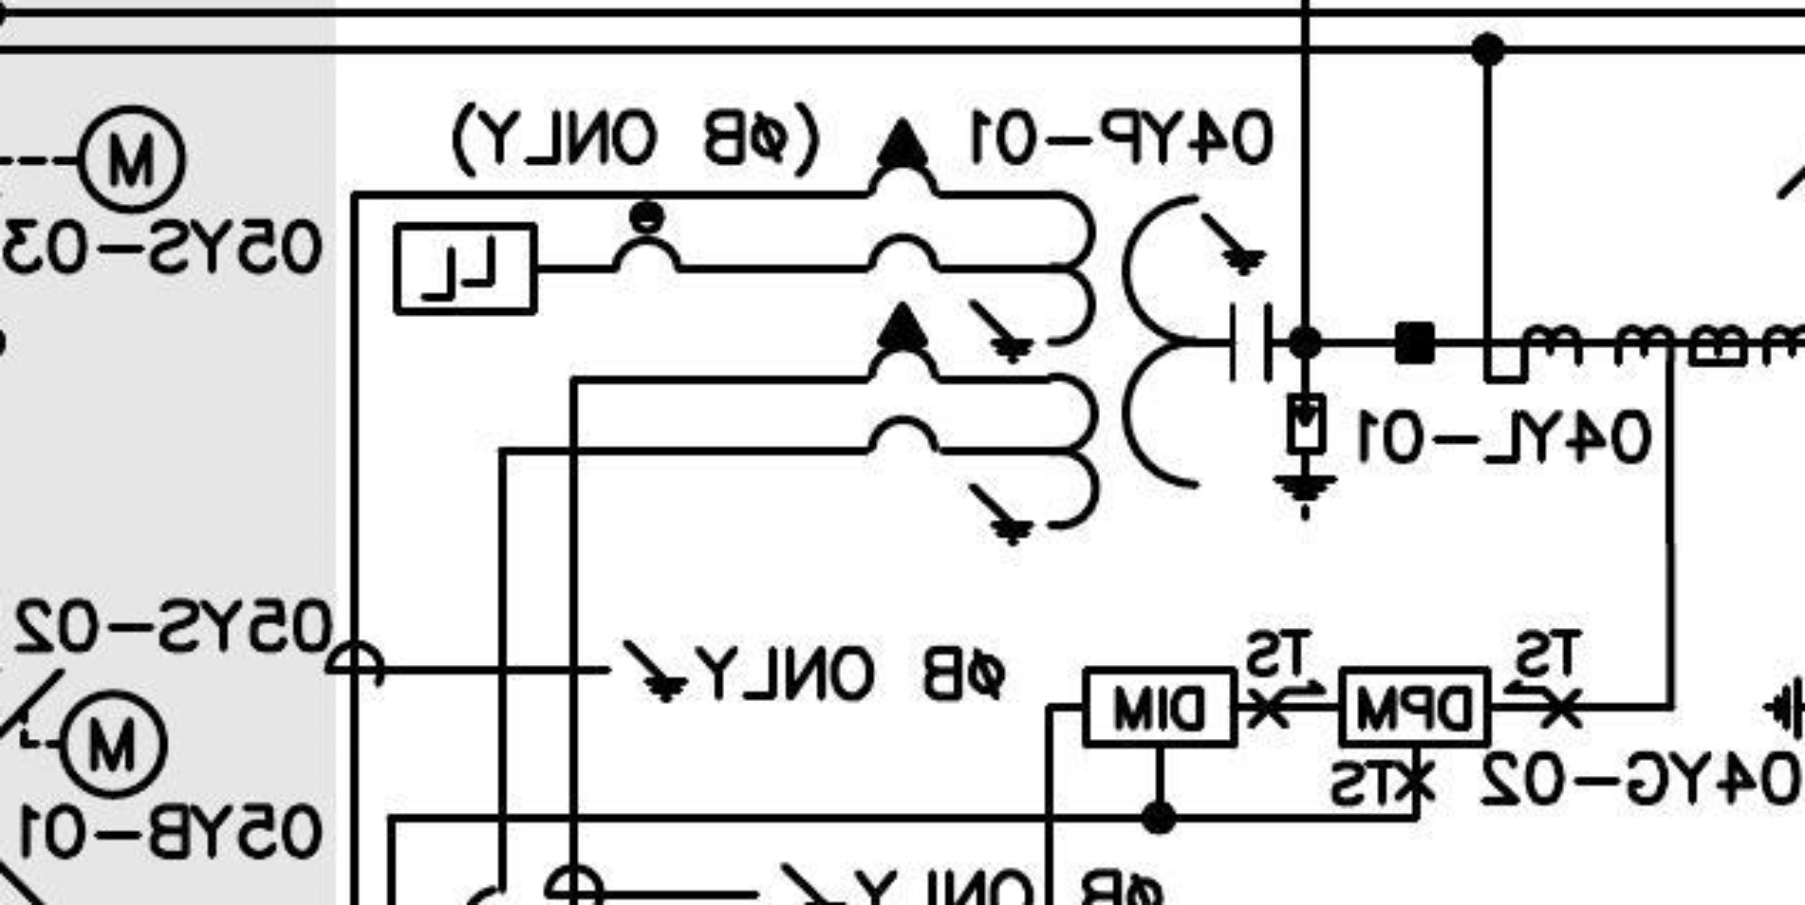115_cvt_1p: (860, 115, 1275, 551)
115_la: (1271, 392, 1340, 524)
DIM: (1083, 666, 1238, 750)
DPM: (1338, 665, 1492, 749)
LL: (391, 222, 539, 317)
